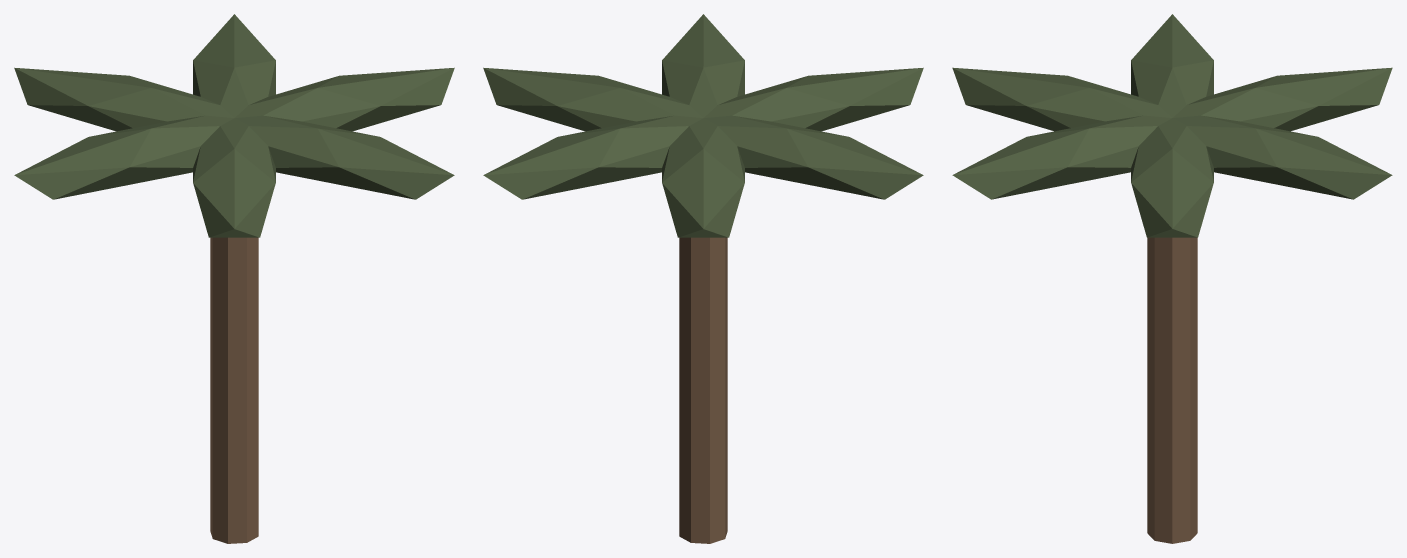
File: palm.glb
3 views of the same model, side by side, from view 1: azimuth 30°, elevation 25°; view 2: azimuth 150°, elevation 25°; view 3: azimuth 270°, elevation 25° (orthographic).
Visible parts, largest first — view 1: palm; view 2: palm; view 3: palm.
Boxes of the visible parts, x1=… form: palm: x1=14, y1=14, x2=454, y2=543; palm: x1=483, y1=14, x2=923, y2=543; palm: x1=952, y1=14, x2=1392, y2=543.
Bounding box in the file's own units: 3.45 × 3.18 × 2.98.
